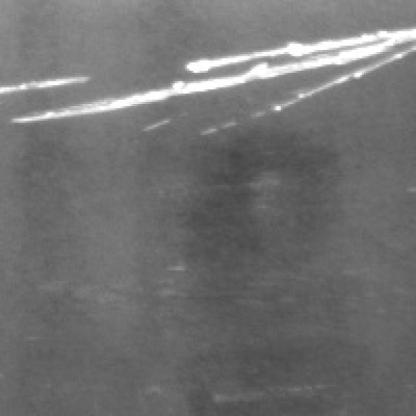scratches: (2, 31, 414, 137)
